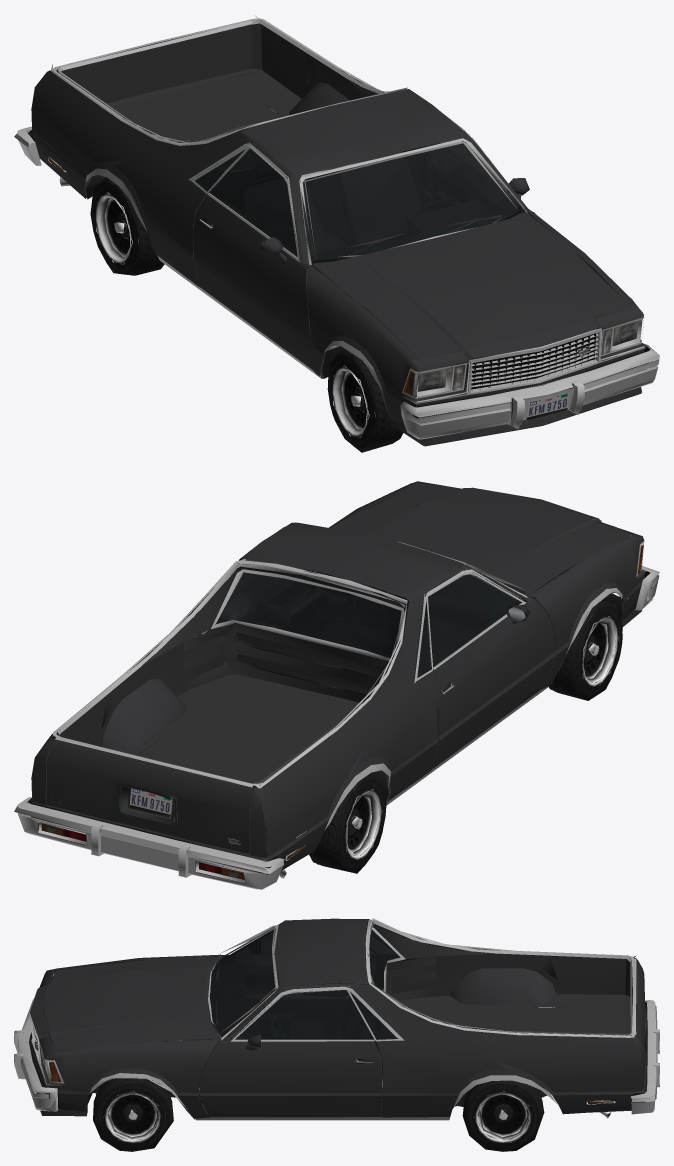
Rendered from elalamo_lod1.glb.
3 renders of one model, top to bottom at view 1: azimuth 30°, elevation 25°; view 2: azimuth 150°, elevation 25°; view 3: azimuth 270°, elevation 25°, orthographic. The views are drawn at different scales.
Parts seen in each view (by area): view 1: ElAlamo78_Body_ElAlamo78_Bodymat_0, ElAlamo78_Hood_ElAlamo78_Bodymat_0, ElAlamo78_Interior_UCB_Interiors_2_0, ElAlamo78_Bottom_UCB_BOTTOM_0, ElAlamo78_Windshield_UCB_Lights_and_Glass_Transperent_0, ElAlamo78_Bumper_Front_UCB_BOTTOM_0, ElAlamo78_Trunkdoor_ElAlamo78_Bodymat_0, wheel_FR, ElAlamo78_Glass_Driver001_UCB_Lights_and_Glass_Transperent_0, wheel_RR, ElAlamo78_Headlights_UCB_Lights_and_Glass_Transperent_0, ElAlamo78_Headlights001_UCB_Lights_and_Glass_0 (+3 smaller); view 2: ElAlamo78_Body_ElAlamo78_Bodymat_0, ElAlamo78_Hood_ElAlamo78_Bodymat_0, ElAlamo78_Interior_UCB_Interiors_2_0, ElAlamo78_Trunkdoor_ElAlamo78_Bodymat_0, ElAlamo78_Bottom_UCB_BOTTOM_0, ElAlamo78_Rear_Glass_UCB_Lights_and_Glass_Transperent_0, ElAlamo78_Bumper_Rear_UCB_BOTTOM_0, wheel_RR, ElAlamo78_Glass_Driver001_UCB_Lights_and_Glass_Transperent_0, wheel_FR, ElAlamo78_Trunkdoor_Inner_UCB_BOTTOM_0, ElAlamo78_Numberplate_Rear_Numberplates_Misk_U_0 (+1 smaller); view 3: ElAlamo78_Body_ElAlamo78_Bodymat_0, ElAlamo78_Hood_ElAlamo78_Bodymat_0, ElAlamo78_Interior_UCB_Interiors_2_0, ElAlamo78_Bottom_UCB_BOTTOM_0, wheel_FL, ElAlamo78_Glass_Driver_UCB_Lights_and_Glass_Transperent_0, wheel_RL, ElAlamo78_Windshield_UCB_Lights_and_Glass_Transperent_0, ElAlamo78_Bumper_Front_UCB_BOTTOM_0, ElAlamo78_Bumper_Rear_UCB_BOTTOM_0, ElAlamo78_Rear_Glass_UCB_Lights_and_Glass_Transperent_0, ElAlamo78_BodyGlass_UCB_Lights_and_Glass_Transperent_0 (+3 smaller).
Part boxes in pixels (<box>): ElAlamo78_Body_ElAlamo78_Bodymat_0: <box>29,23,644,425</box>; ElAlamo78_Hood_ElAlamo78_Bodymat_0: <box>311,209,630,359</box>; ElAlamo78_Interior_UCB_Interiors_2_0: <box>195,143,520,356</box>; ElAlamo78_Bottom_UCB_BOTTOM_0: <box>48,15,645,446</box>; ElAlamo78_Windshield_UCB_Lights_and_Glass_Transperent_0: <box>303,143,519,260</box>; ElAlamo78_Bumper_Front_UCB_BOTTOM_0: <box>400,343,659,439</box>; ElAlamo78_Trunkdoor_ElAlamo78_Bodymat_0: <box>51,24,251,105</box>; wheel_FR: <box>327,350,403,452</box>; ElAlamo78_Glass_Driver001_UCB_Lights_and_Glass_Transperent_0: <box>210,148,297,256</box>; wheel_RR: <box>90,177,164,275</box>; ElAlamo78_Headlights_UCB_Lights_and_Glass_Transperent_0: <box>416,321,637,391</box>; ElAlamo78_Headlights001_UCB_Lights_and_Glass_0: <box>417,322,636,391</box>; ElAlamo78_Body_ElAlamo78_Bodymat_0: <box>31,481,644,879</box>; ElAlamo78_Hood_ElAlamo78_Bodymat_0: <box>334,483,630,598</box>; ElAlamo78_Interior_UCB_Interiors_2_0: <box>213,559,524,743</box>; ElAlamo78_Trunkdoor_ElAlamo78_Bodymat_0: <box>47,739,253,854</box>; ElAlamo78_Bottom_UCB_BOTTOM_0: <box>51,488,645,878</box>; ElAlamo78_Rear_Glass_UCB_Lights_and_Glass_Transperent_0: <box>216,572,401,659</box>; ElAlamo78_Bumper_Rear_UCB_BOTTOM_0: <box>14,797,284,889</box>; wheel_RR: <box>307,774,386,873</box>; ElAlamo78_Glass_Driver001_UCB_Lights_and_Glass_Transperent_0: <box>428,574,520,666</box>; wheel_FR: <box>548,600,622,700</box>; ElAlamo78_Trunkdoor_Inner_UCB_BOTTOM_0: <box>55,737,252,826</box>; ElAlamo78_Numberplate_Rear_Numberplates_Misk_U_0: <box>129,788,172,818</box>; ElAlamo78_Body_ElAlamo78_Bodymat_0: <box>30,918,646,1118</box>; ElAlamo78_Hood_ElAlamo78_Bodymat_0: <box>42,954,221,1051</box>; ElAlamo78_Interior_UCB_Interiors_2_0: <box>199,926,399,1085</box>; ElAlamo78_Bottom_UCB_BOTTOM_0: <box>29,918,646,1120</box>; wheel_FL: <box>93,1078,173,1151</box>; ElAlamo78_Glass_Driver_UCB_Lights_and_Glass_Transperent_0: <box>235,990,374,1039</box>; wheel_RL: <box>462,1077,544,1151</box>; ElAlamo78_Windshield_UCB_Lights_and_Glass_Transperent_0: <box>210,929,275,1036</box>; ElAlamo78_Bumper_Front_UCB_BOTTOM_0: <box>14,999,58,1111</box>; ElAlamo78_Bumper_Rear_UCB_BOTTOM_0: <box>631,1000,659,1114</box>; ElAlamo78_Rear_Glass_UCB_Lights_and_Glass_Transperent_0: <box>368,929,400,990</box>; ElAlamo78_BodyGlass_UCB_Lights_and_Glass_Transperent_0: <box>350,935,397,1039</box>.
Bounding box in the file's own units: 1.94 × 1.41 × 5.17.
8 materials, 7 textured.
